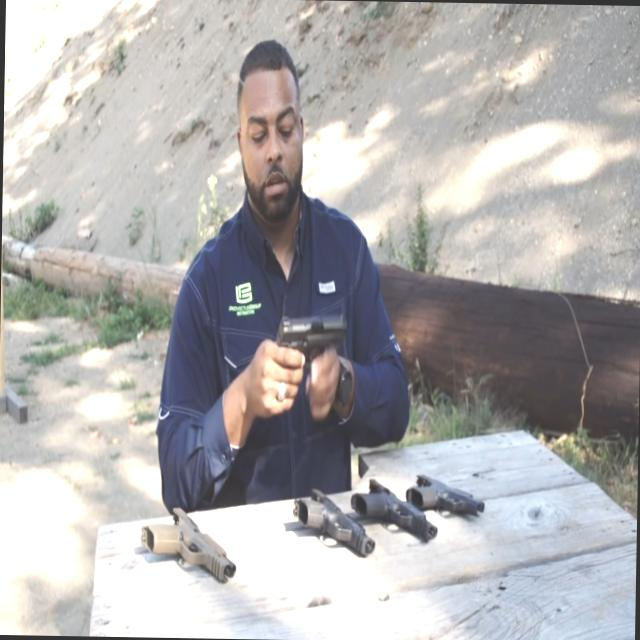handgun: (261, 305, 363, 401), (285, 473, 383, 568), (146, 500, 240, 594), (356, 464, 444, 549), (404, 463, 484, 527)
